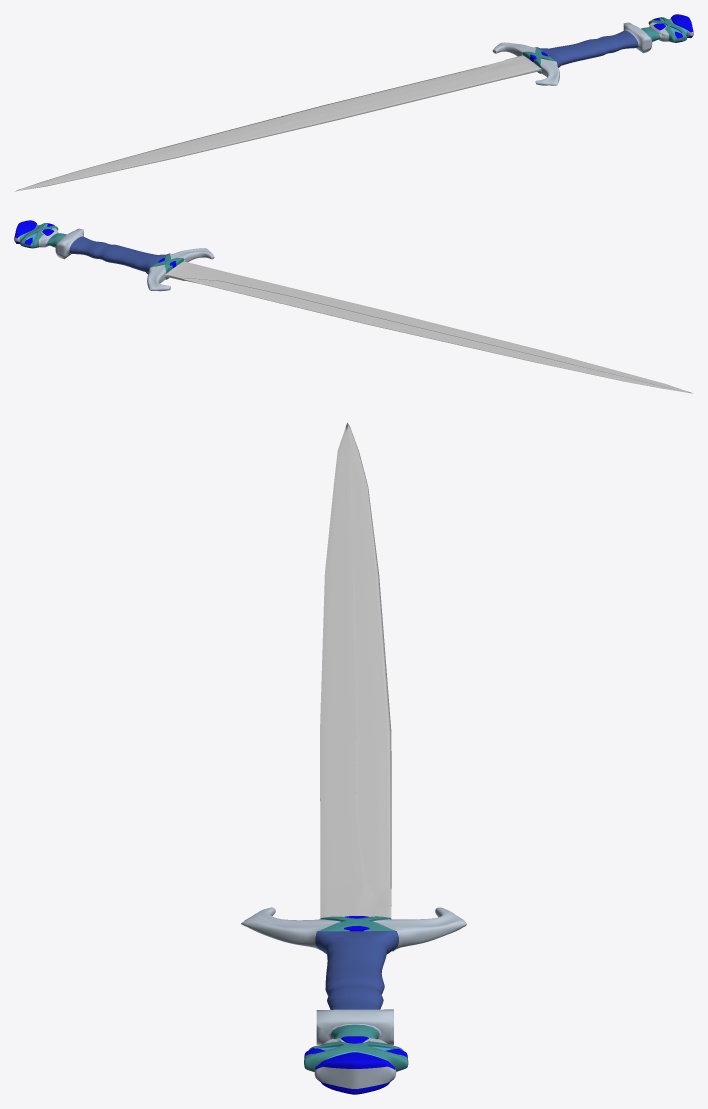
File: Sword.fbx
The picture shows the model from 3 angles, top to bottom: view 1: azimuth 30°, elevation 25°; view 2: azimuth 150°, elevation 25°; view 3: azimuth 270°, elevation 25°; orthographic projection. The views are drawn at different scales.
Parts seen in each view (by area): view 1: Cube; view 2: Cube; view 3: Cube.
Boxes of the visible parts, left/top/right/bottom form: Cube: left=14, top=14, right=693, bottom=191; Cube: left=14, top=220, right=692, bottom=393; Cube: left=241, top=422, right=466, bottom=1094.
Bounding box in the file's own units: 24.83 × 0.5904 × 3.62.
